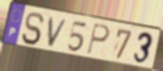3: (132, 31, 156, 66)
5: (67, 20, 89, 53)
7: (115, 28, 132, 61)
P: (86, 22, 111, 56)
S: (20, 11, 46, 47)
V: (47, 16, 69, 49)
